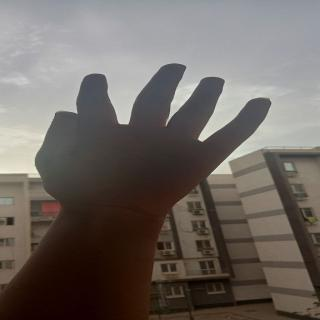SHEEN: (26, 61, 278, 212)
